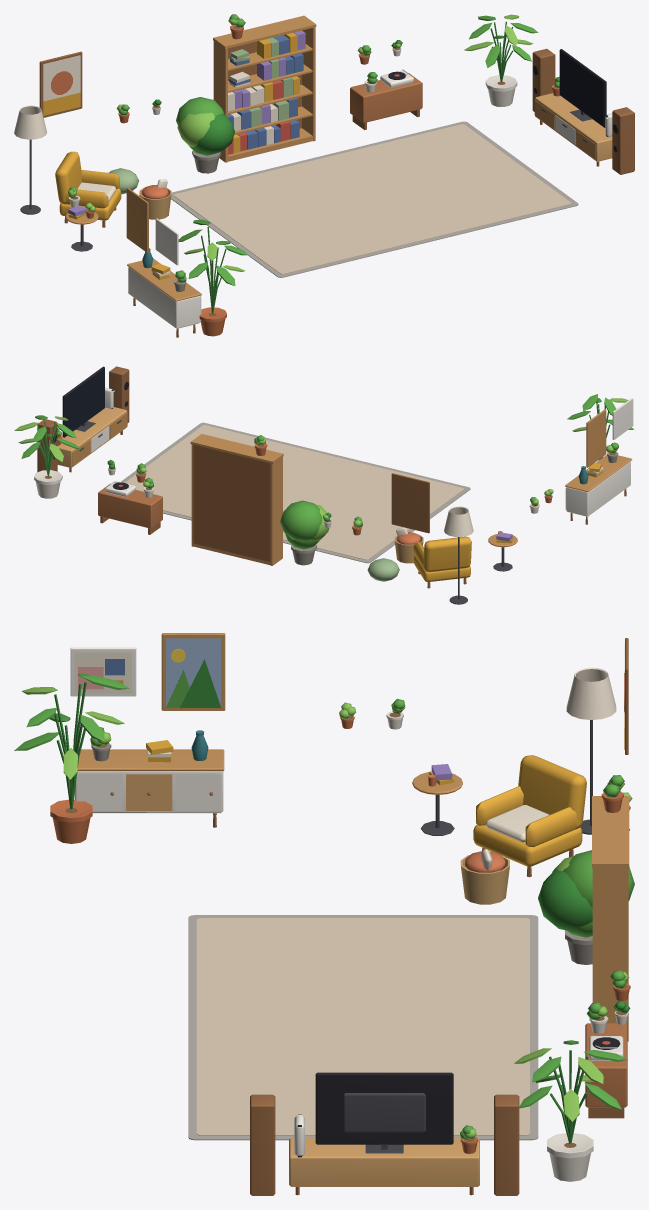
File: einrichtung_wohnzimmer.glb
3 views of the same model, one above another, from view 1: azimuth 30°, elevation 25°; view 2: azimuth 150°, elevation 25°; view 3: azimuth 270°, elevation 25° (orthographic). The views are drawn at different scales.
Parts seen in each view (by area): view 1: einrichtung_wohnzimmer; view 2: einrichtung_wohnzimmer; view 3: einrichtung_wohnzimmer.
Part boxes in pixels (left/top/right/bottom): einrichtung_wohnzimmer: left=14, top=14, right=634, bottom=337; einrichtung_wohnzimmer: left=14, top=366, right=634, bottom=604; einrichtung_wohnzimmer: left=14, top=633, right=634, bottom=1195.
Size of the model in its own units: 8.7 by 2.2 by 5.85.
